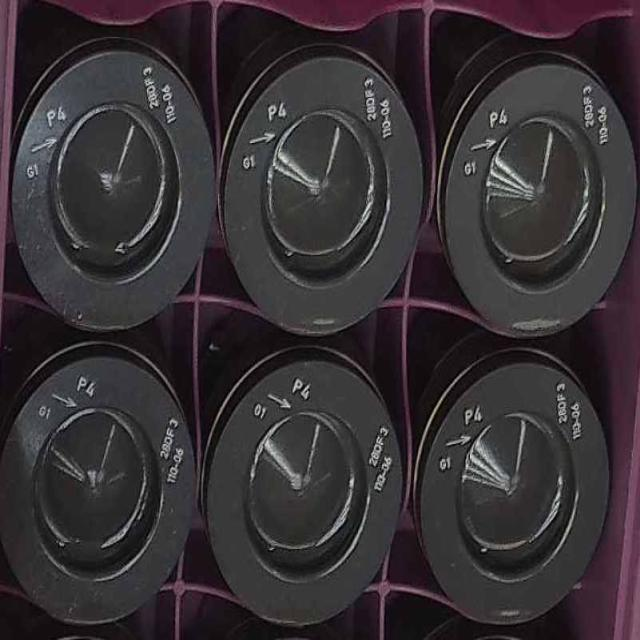P4: (226, 59, 426, 332), (208, 359, 410, 622), (421, 359, 621, 623), (16, 51, 211, 321), (444, 61, 636, 330), (10, 344, 194, 623)
